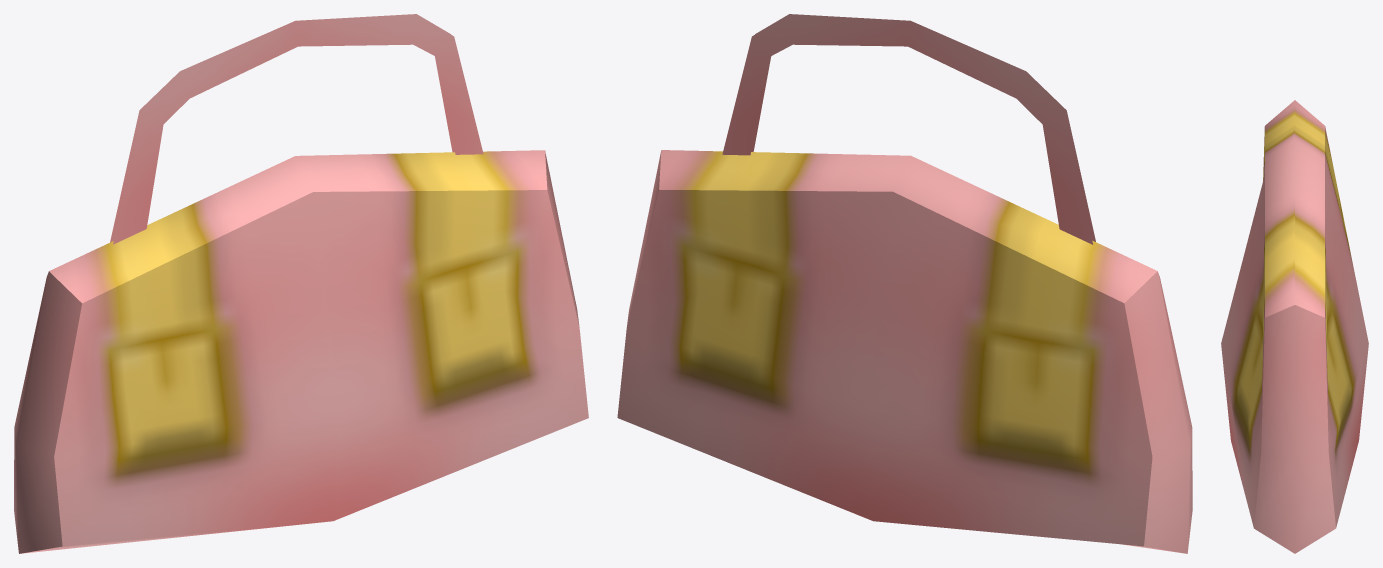
Rendered from Purse.fbx.
3 renders of one model, left to right at view 1: azimuth 30°, elevation 25°; view 2: azimuth 150°, elevation 25°; view 3: azimuth 270°, elevation 25°, orthographic. The views are drawn at different scales.
Visible parts, largest first — view 1: Maya_File_Assets:TexturedAssetsCurrent:EliesAsstsTextures:Ti; view 2: Maya_File_Assets:TexturedAssetsCurrent:EliesAsstsTextures:Ti; view 3: Maya_File_Assets:TexturedAssetsCurrent:EliesAsstsTextures:Ti.
Part boxes in pixels (box(x1,y1,x2,y2)): Maya_File_Assets:TexturedAssetsCurrent:EliesAsstsTextures:Ti: box(14, 14, 588, 553); Maya_File_Assets:TexturedAssetsCurrent:EliesAsstsTextures:Ti: box(617, 14, 1192, 553); Maya_File_Assets:TexturedAssetsCurrent:EliesAsstsTextures:Ti: box(1221, 100, 1368, 553).
Size of the model in its own units: 0.5359 by 0.4438 by 0.1429.
